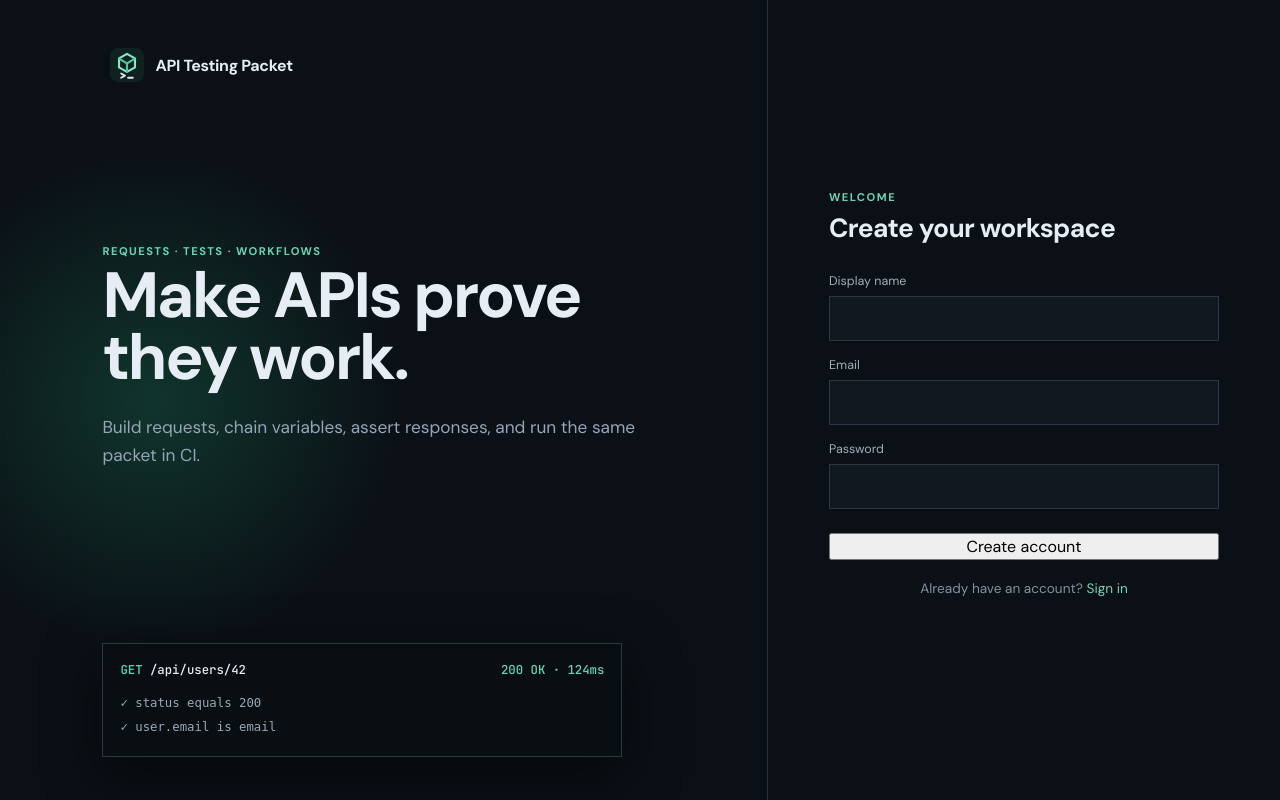
Test case: registration › shows a backend registration error
The image size is (1280, 800).
In the field labelled "Display name": (1024, 318) [829,296,1219,341], type "Ada Tester"
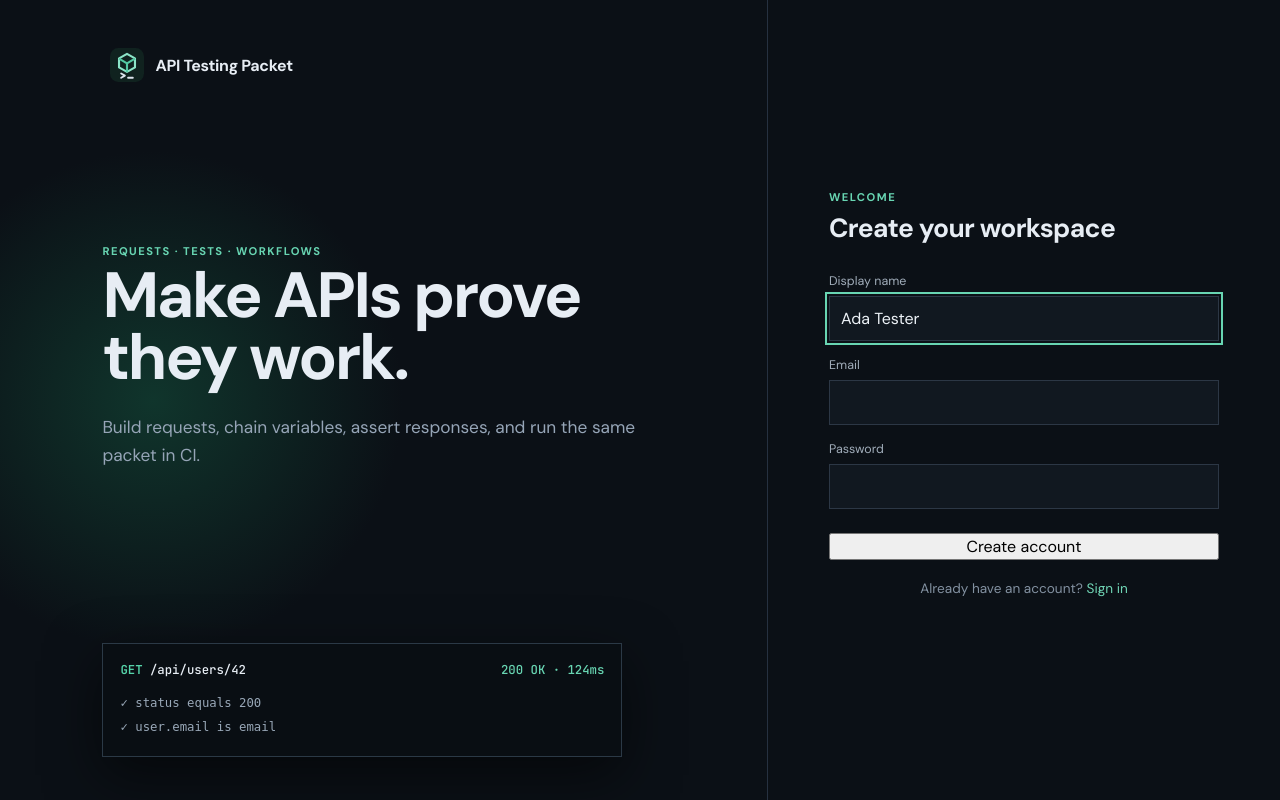
In the field labelled "Email": (1024, 402) [829,380,1219,425], type "ada@example.test"
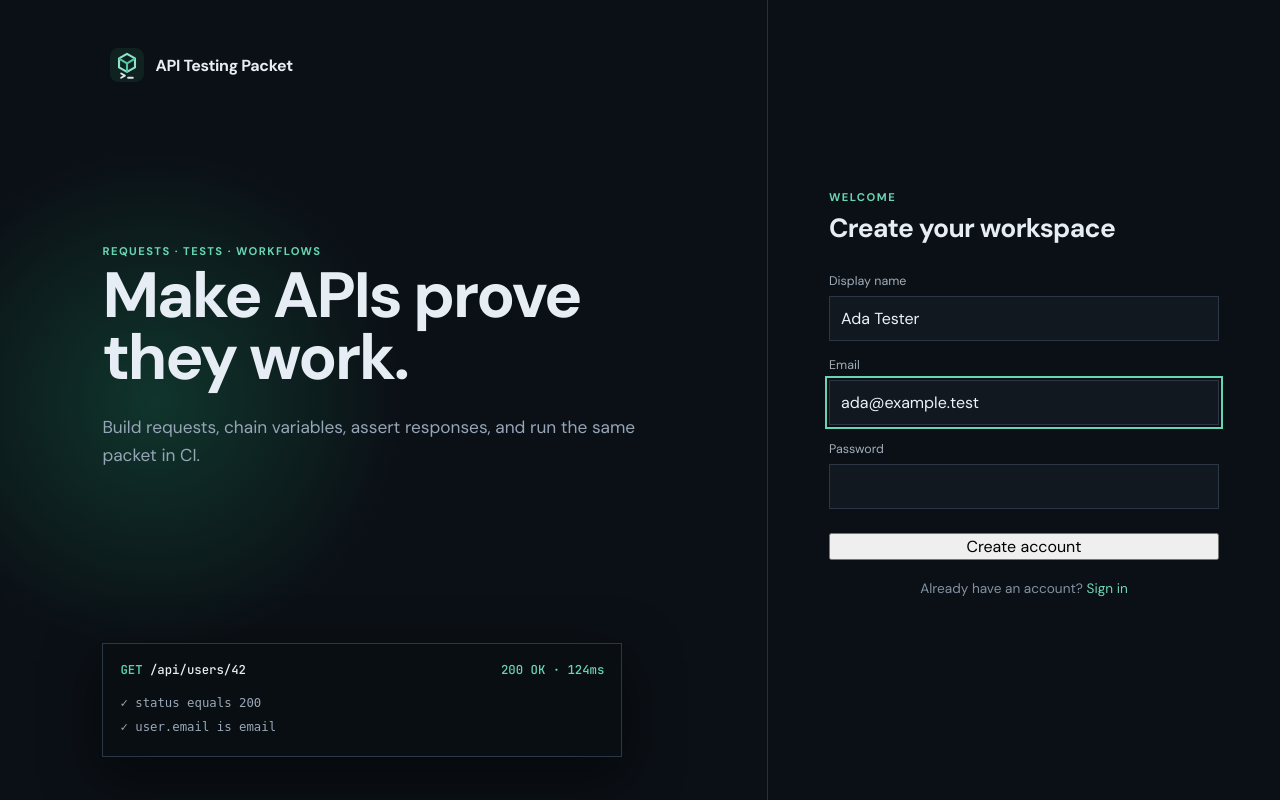
In the password field labelled "Password": (1024, 486) [829,464,1219,509], type "correct horse battery staple"
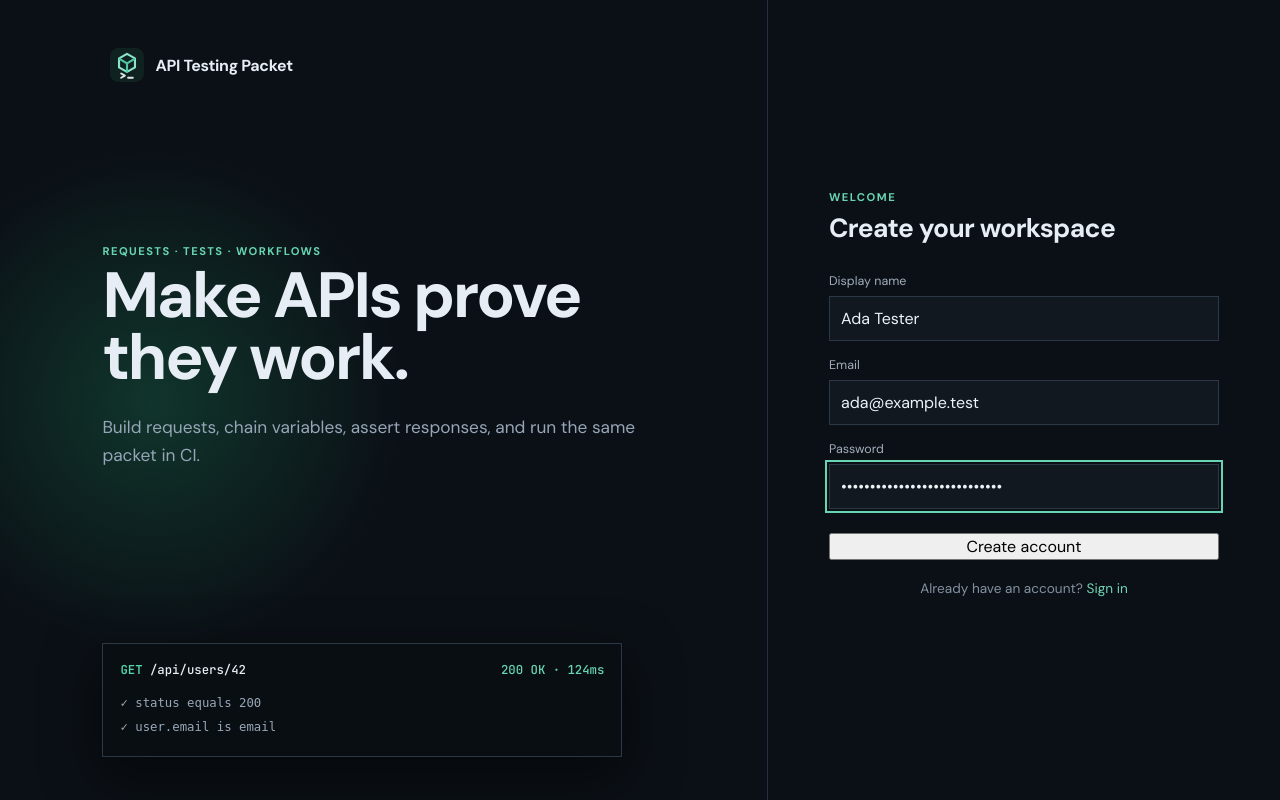
Click the button: click(1024, 546) [829,533,1219,560]
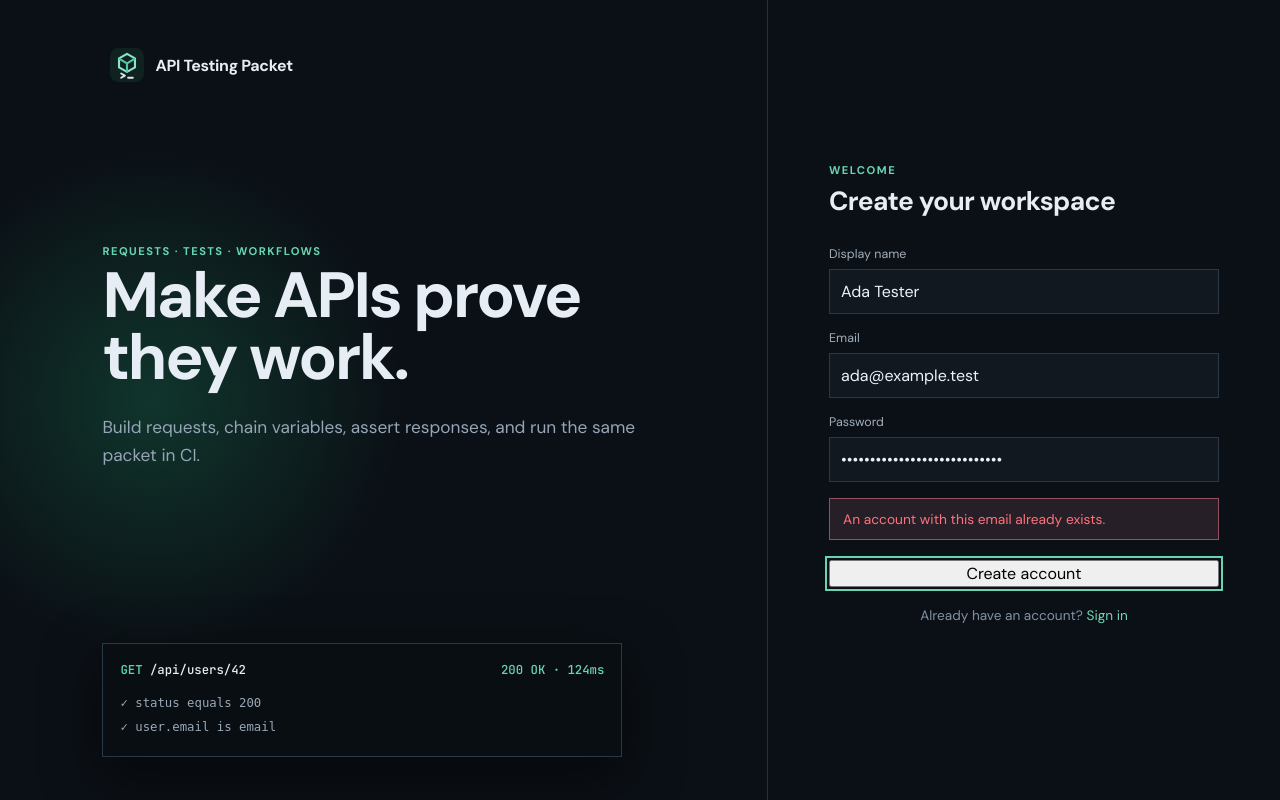
Expected: the text "An account with this email already exists." is shown, [829,498,1219,540]
